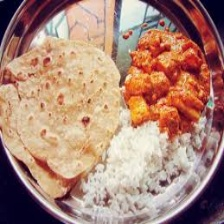roti: (0, 38, 121, 197)
